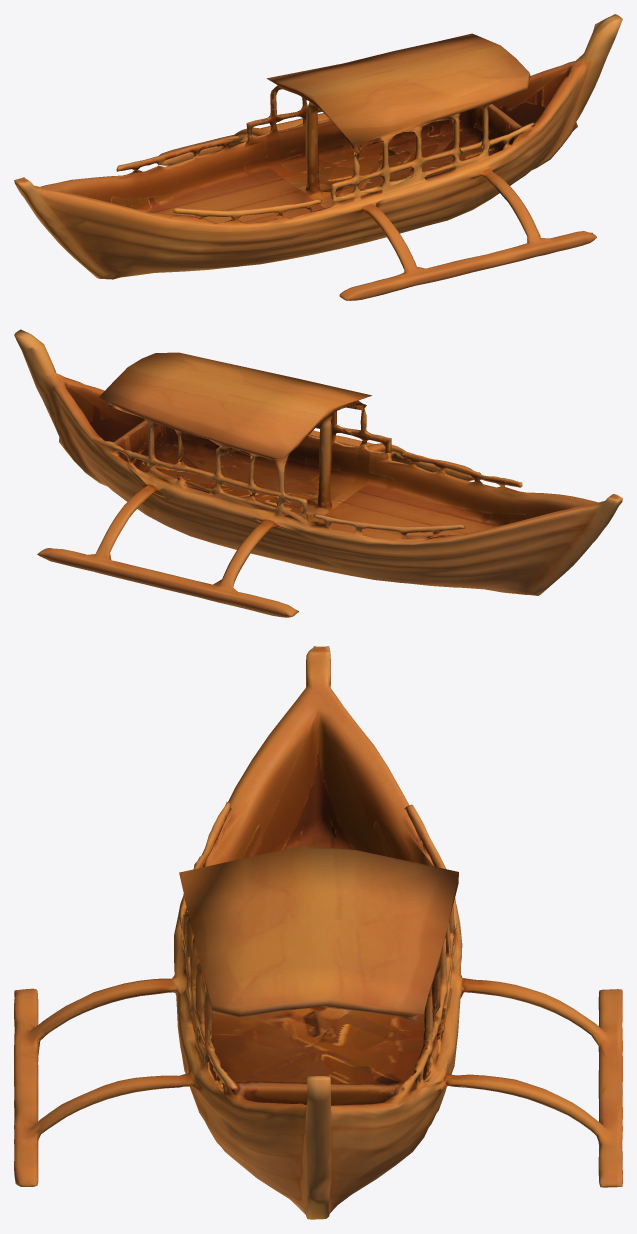
File: Boat.glb
The picture shows the model from 3 angles, top to bottom: view 1: azimuth 30°, elevation 25°; view 2: azimuth 150°, elevation 25°; view 3: azimuth 270°, elevation 25°; orthographic projection. The views are drawn at different scales.
Size of the model in its own units: 1.91 by 0.4144 by 1.05.
1 material, 1 textured.
